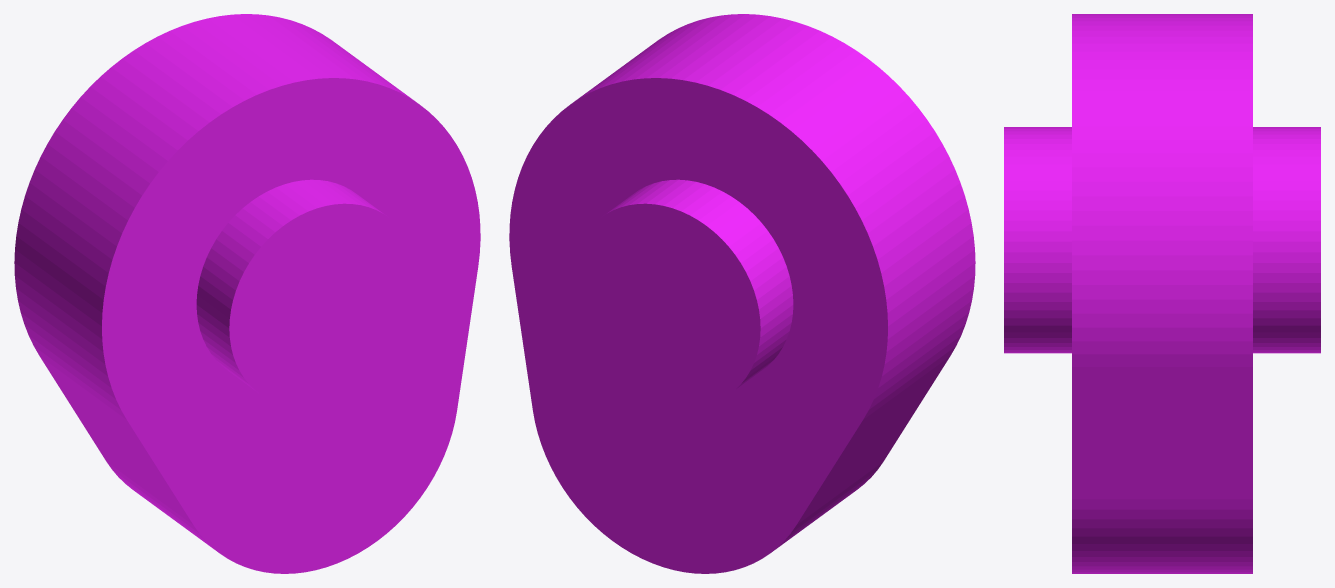
File: cam02.glb
3 views of the same model, side by side, from view 1: azimuth 30°, elevation 25°; view 2: azimuth 150°, elevation 25°; view 3: azimuth 270°, elevation 25° (orthographic). The views are drawn at different scales.
Size of the model in its own units: 20 by 24.88 by 14.
